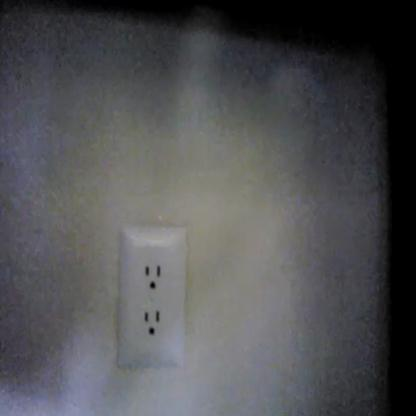OUTLET: (118, 228, 186, 366)
